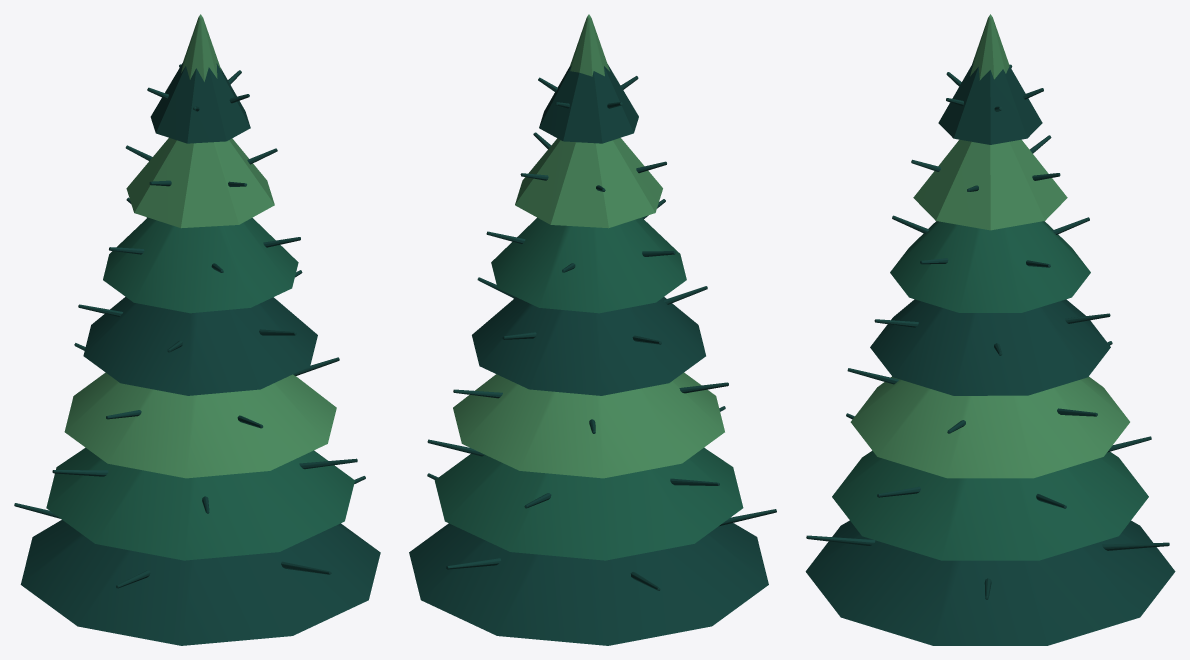
Rendered from tree_pine_lod2.glb.
The picture shows the model from 3 angles, left to right: view 1: azimuth 30°, elevation 25°; view 2: azimuth 150°, elevation 25°; view 3: azimuth 270°, elevation 25°; orthographic projection.
Parts seen in each view (by area): view 1: Tall tapered pine trunk.001; view 2: Tall tapered pine trunk.001; view 3: Tall tapered pine trunk.001.
Boxes of the visible parts, left/top/right/bottom form: Tall tapered pine trunk.001: left=14, top=14, right=380, bottom=645; Tall tapered pine trunk.001: left=409, top=14, right=776, bottom=645; Tall tapered pine trunk.001: left=805, top=14, right=1175, bottom=645.
Bounding box in the file's own units: 4.52 × 8.23 × 4.58.
